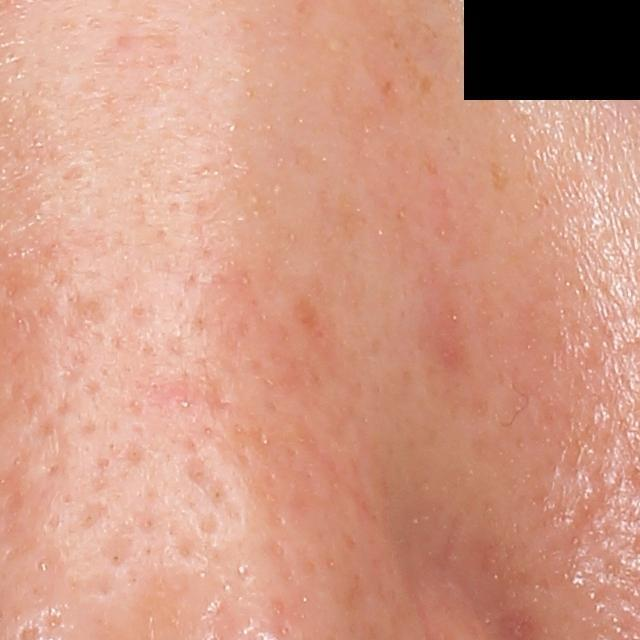melasma: (483, 157, 512, 195), (412, 74, 436, 97)
